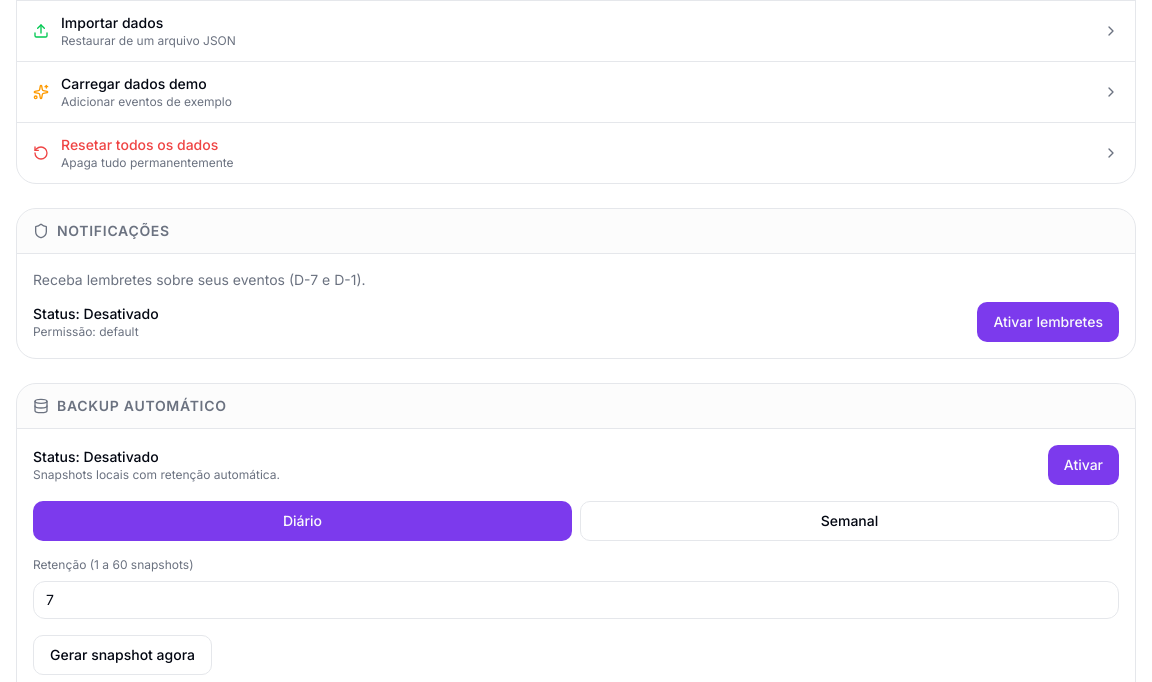
Scenario: Settings notifications section › enables reminders when clicking "Ativar lembretes"
The width and height of the screenshot is (1152, 682).
(page scrolled)
Click the button "Ativar lembretes": (1048,322) left=977, top=302, right=1119, bottom=342
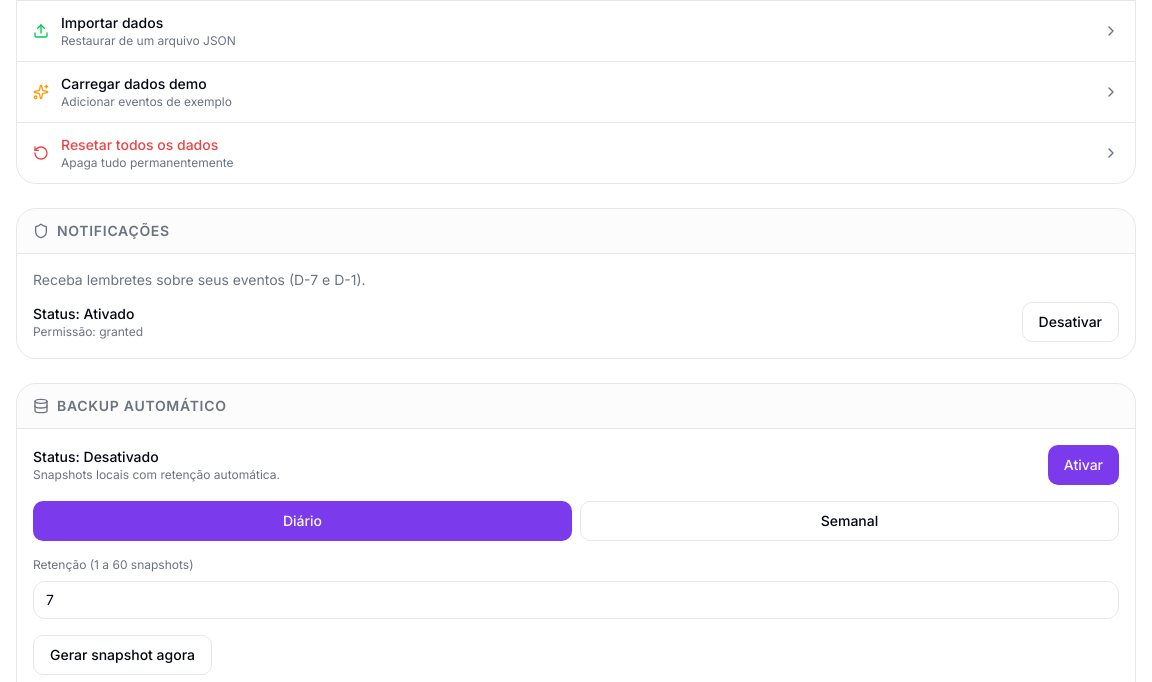
Expected: the text "Status: Ativado" is shown, left=33, top=304, right=143, bottom=324
